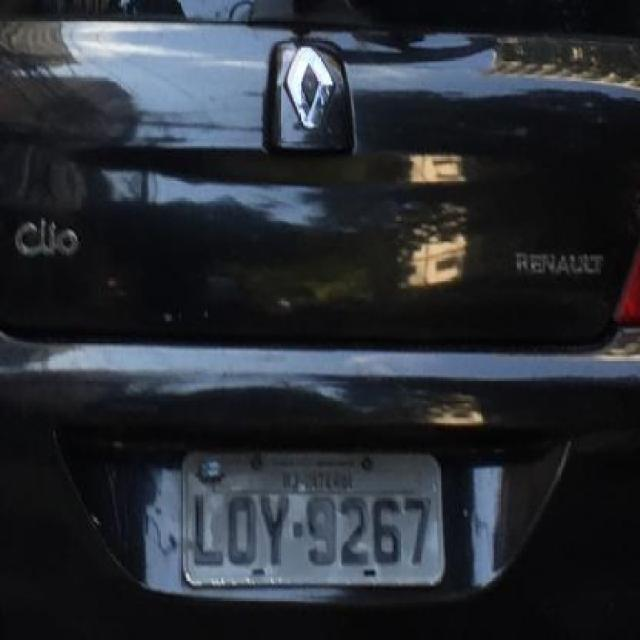old_plate: (177, 446, 449, 592)
